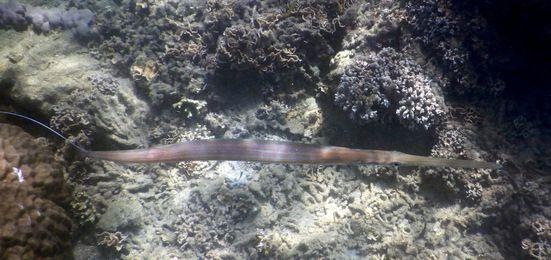Fistularia commersonii: (48, 112, 529, 206)
